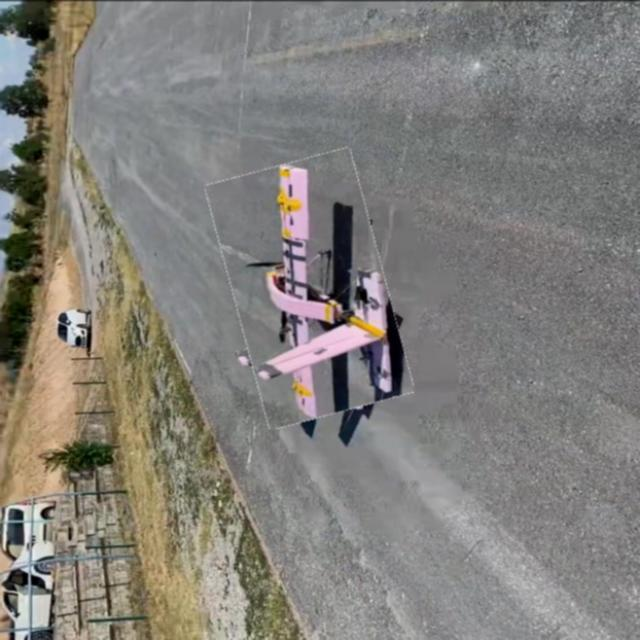plane: (204, 146, 416, 430)
